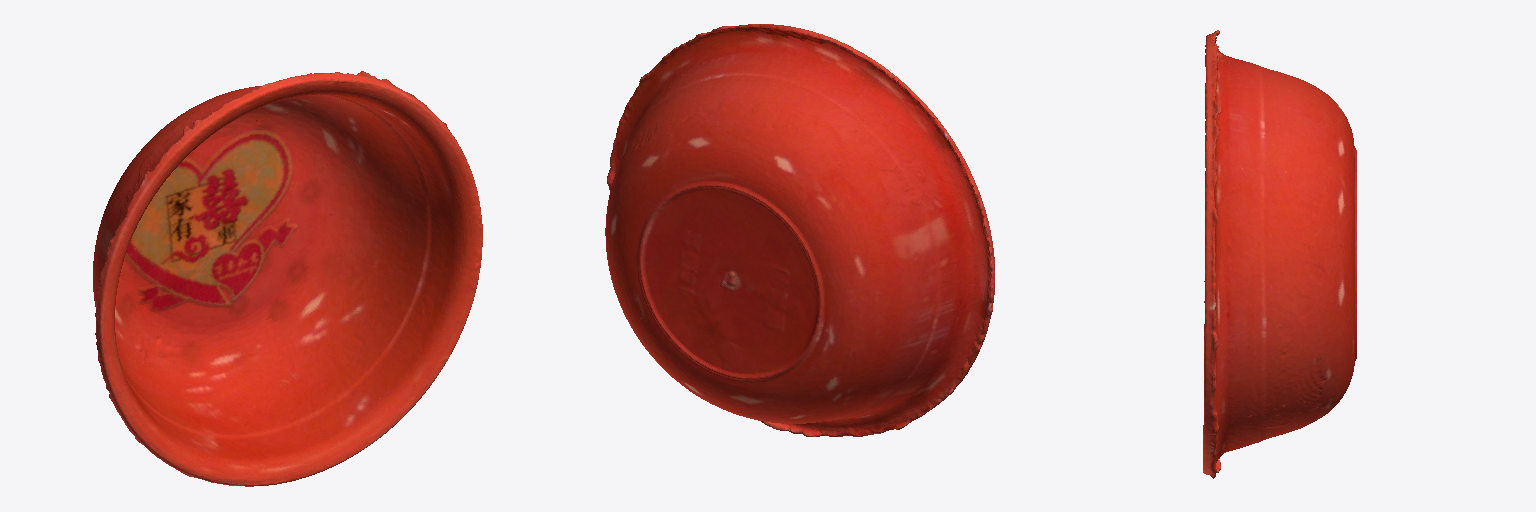
3 views of the same model, side by side, from view 1: azimuth 30°, elevation 25°; view 2: azimuth 150°, elevation 25°; view 3: azimuth 270°, elevation 25° (orthographic).
Bounding box in the file's own units: 130 × 130 × 45.17.
Materials: 1 (1 with a texture image).